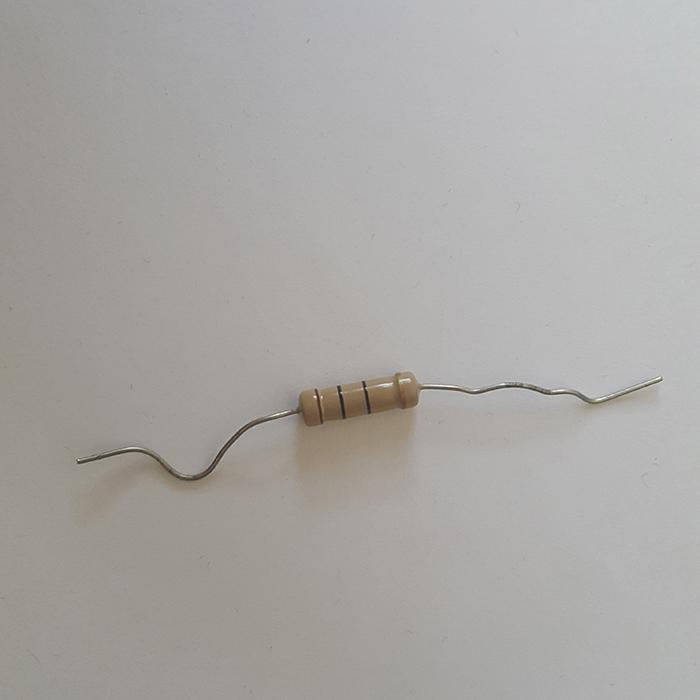resistor: (296, 370, 419, 426)
